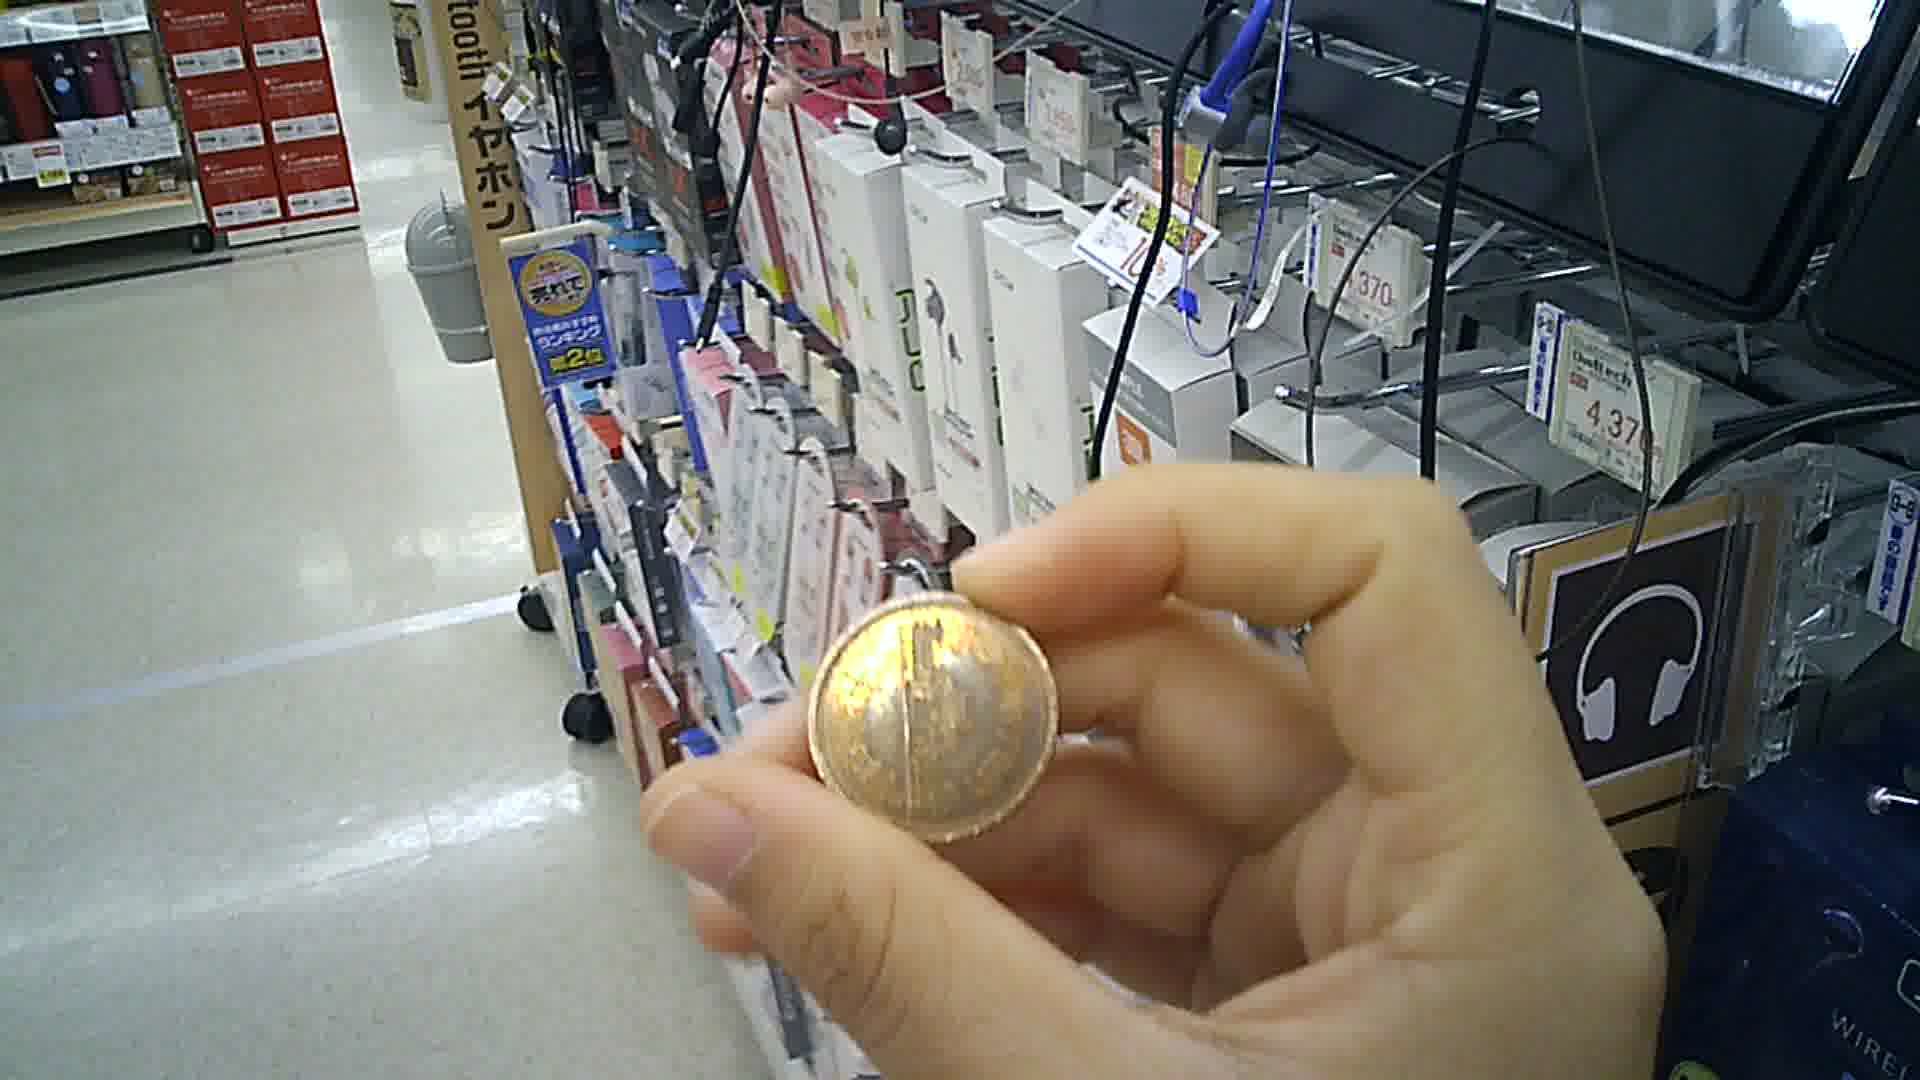10 Yen: (807, 591, 1050, 839)
